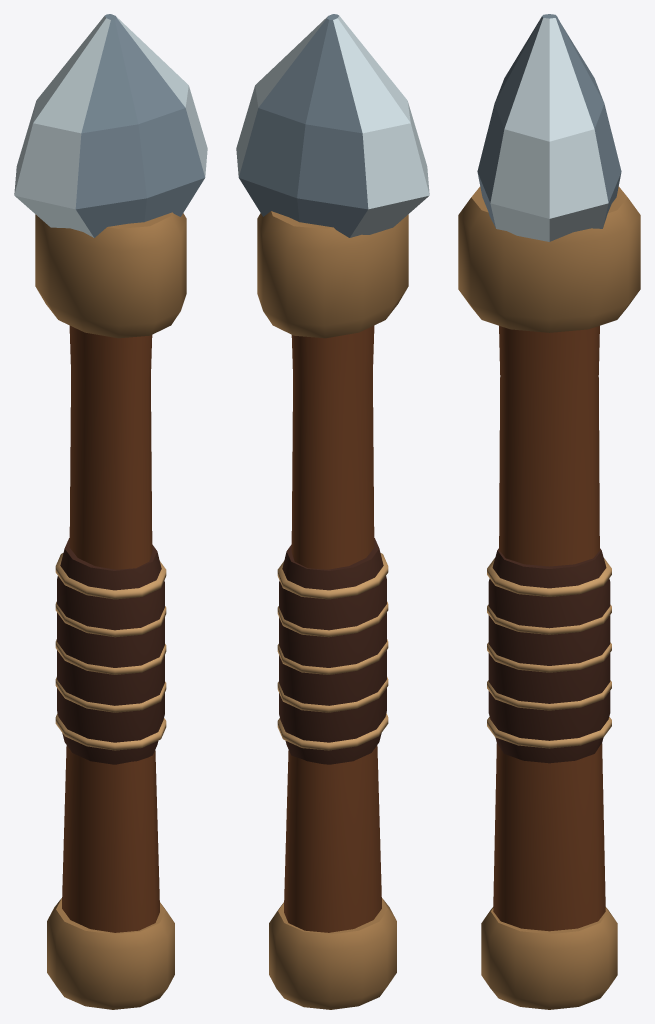
The model's file is spear.glb.
The picture shows the model from 3 angles, left to right: view 1: azimuth 30°, elevation 25°; view 2: azimuth 150°, elevation 25°; view 3: azimuth 270°, elevation 25°; orthographic projection.
Visible parts, largest first — view 1: Body; view 2: Body; view 3: Body.
Boxes of the visible parts, x1=… form: Body: x1=14, y1=14, x2=207, y2=1009; Body: x1=236, y1=14, x2=429, y2=1009; Body: x1=458, y1=14, x2=640, y2=1009.
Bounding box in the file's own units: 0.1463 × 0.7 × 0.119.
